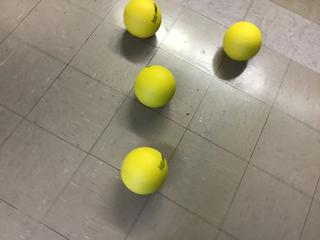power_cell: (119, 145, 171, 197), (133, 64, 177, 110), (221, 21, 264, 64), (123, 1, 164, 39)
